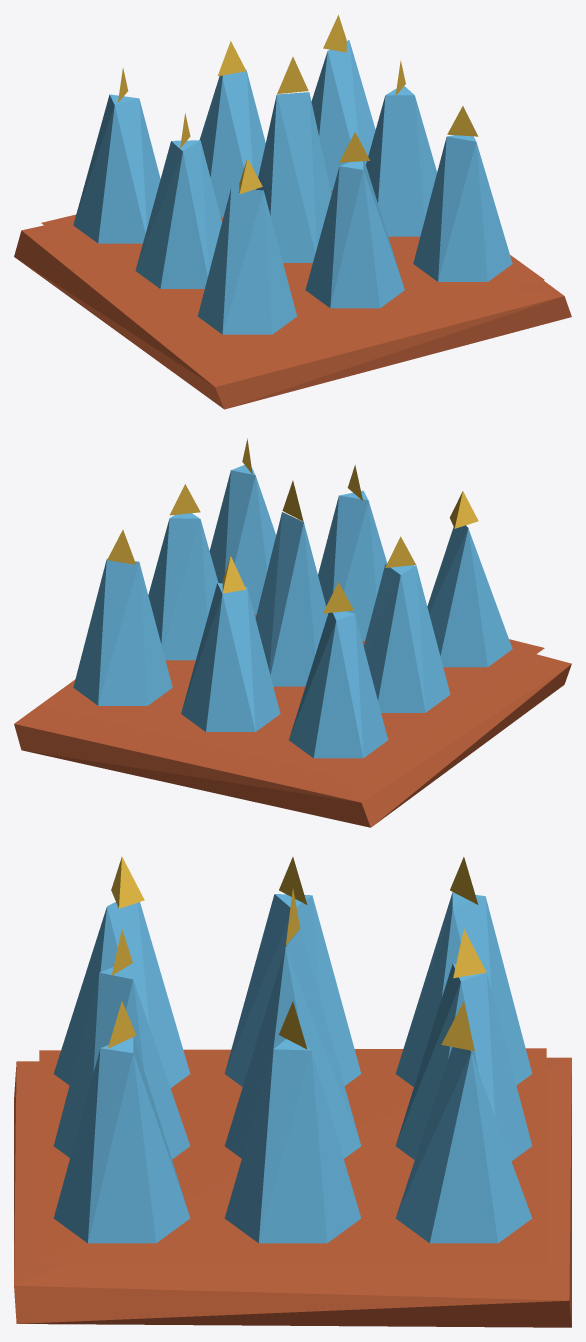
The model's file is spike_hazard_lod1.obj.
The picture shows the model from 3 angles, top to bottom: view 1: azimuth 30°, elevation 25°; view 2: azimuth 150°, elevation 25°; view 3: azimuth 270°, elevation 25°; orthographic projection. The views are drawn at different scales.
Visible parts, largest first — view 1: spike_hazard_lod1; view 2: spike_hazard_lod1; view 3: spike_hazard_lod1.
Part boxes in pixels (x1,y1,x2,y2): spike_hazard_lod1: (14, 15, 571, 409); spike_hazard_lod1: (14, 438, 571, 827); spike_hazard_lod1: (14, 857, 571, 1327).
Size of the model in its own units: 0.9935 by 0.632 by 0.979.
